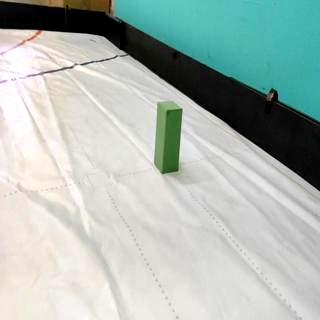greenbox: (153, 100, 184, 174)
